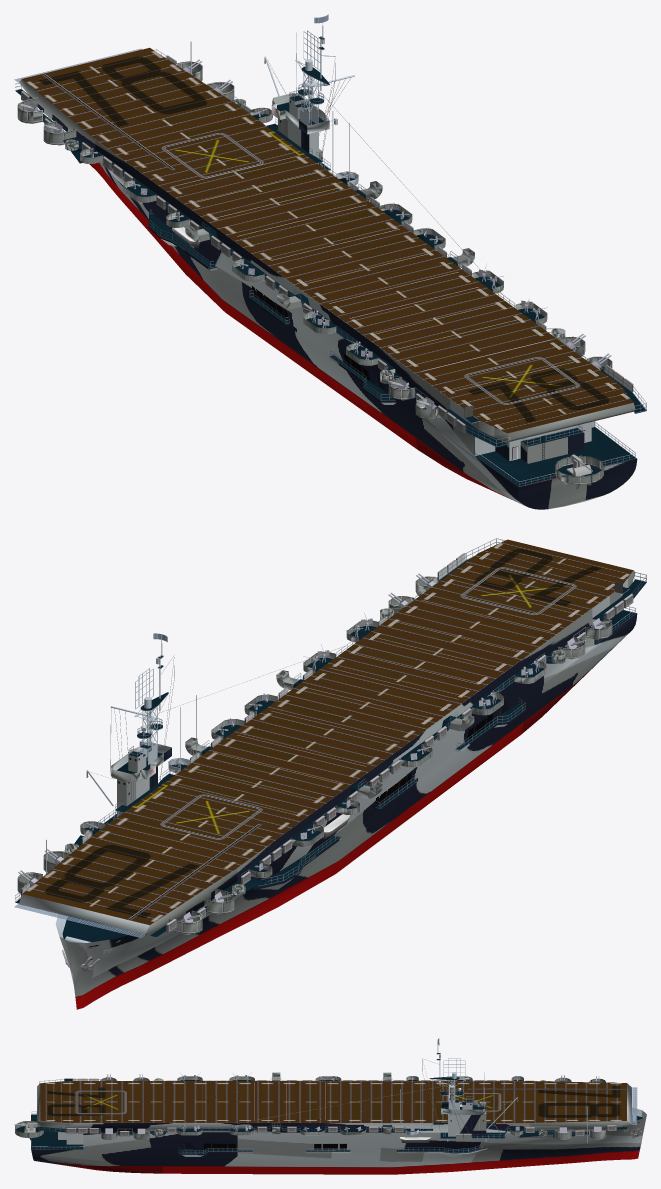
File: CVE_noflag_gun.glb
3 renders of one model, top to bottom at view 1: azimuth 30°, elevation 25°; view 2: azimuth 150°, elevation 25°; view 3: azimuth 270°, elevation 25°, orthographic. The views are drawn at different scales.
Visible parts, largest first — view 1: deck, CVE; view 2: deck, CVE; view 3: CVE, deck.
Part boxes in pixels (box(x1,y1,x2,y2)): deck: box(19, 47, 635, 442); CVE: box(14, 14, 646, 509); deck: box(19, 539, 635, 934); CVE: box(14, 538, 646, 1009); CVE: box(14, 1038, 646, 1174); deck: box(37, 1081, 631, 1132).
Bounding box in the file's own units: 120 × 123 × 497.
15 materials, 6 textured.
